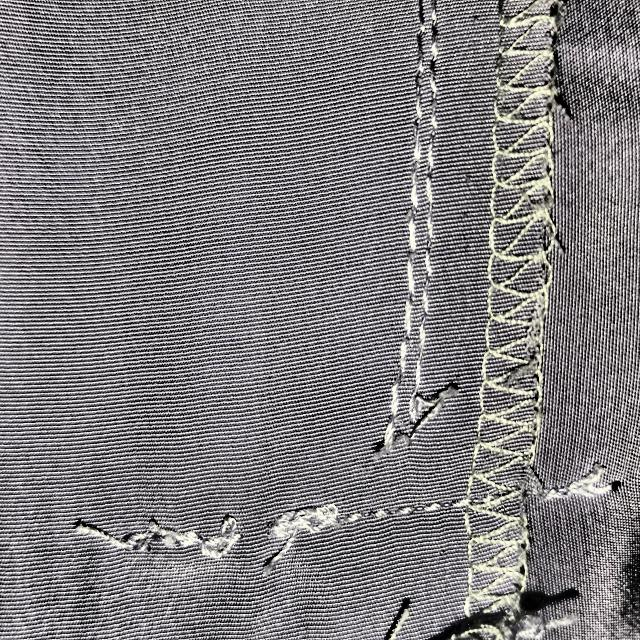Stitch: (341, 362, 441, 571), (189, 473, 332, 582)
